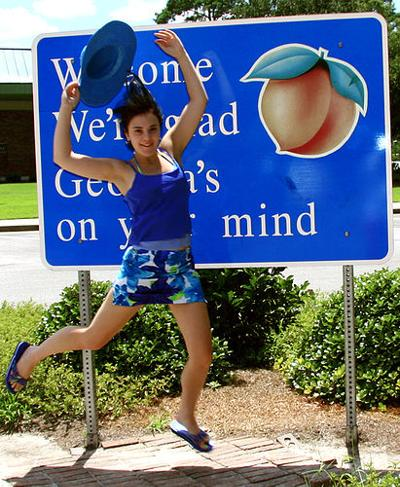person: (9, 29, 215, 458)
